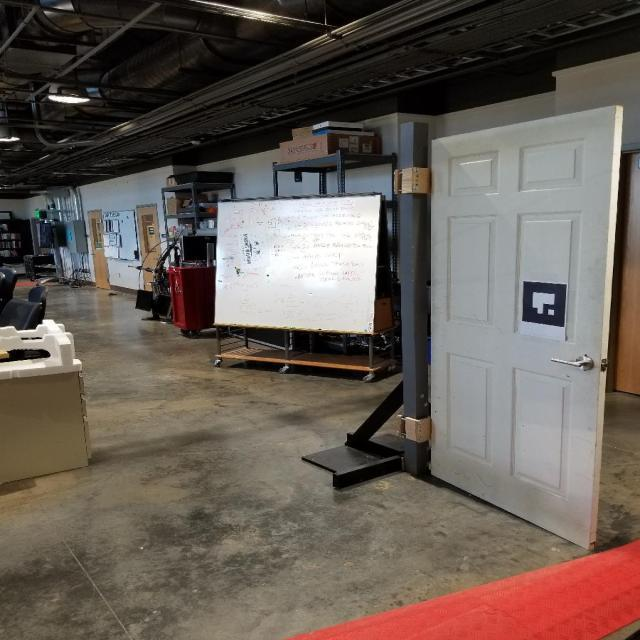door: (426, 103, 626, 553), (546, 350, 592, 374)
